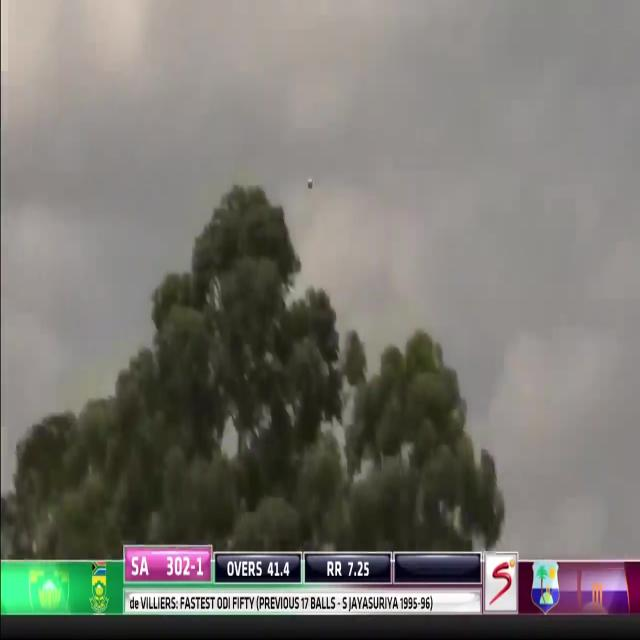Ball: (92, 45, 511, 552)
